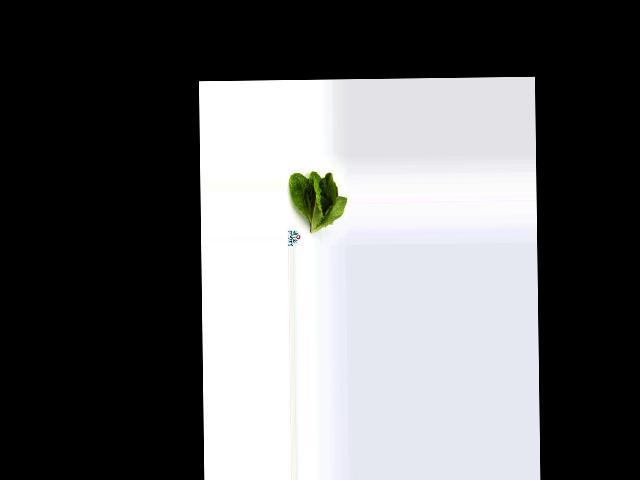lettuce: (290, 169, 348, 233)
